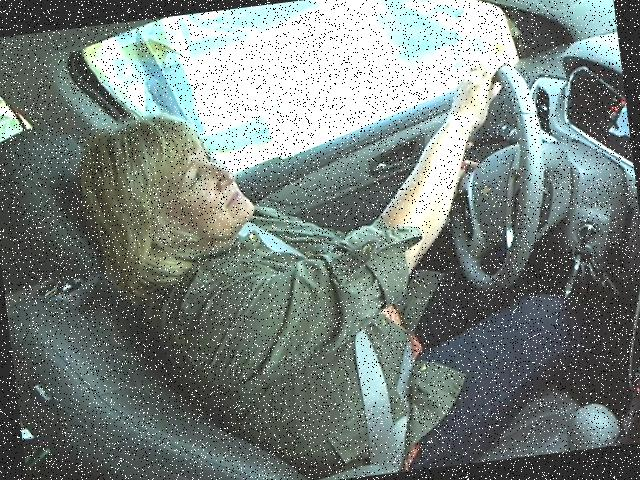c0 - Safe Driving: (64, 46, 587, 399)
